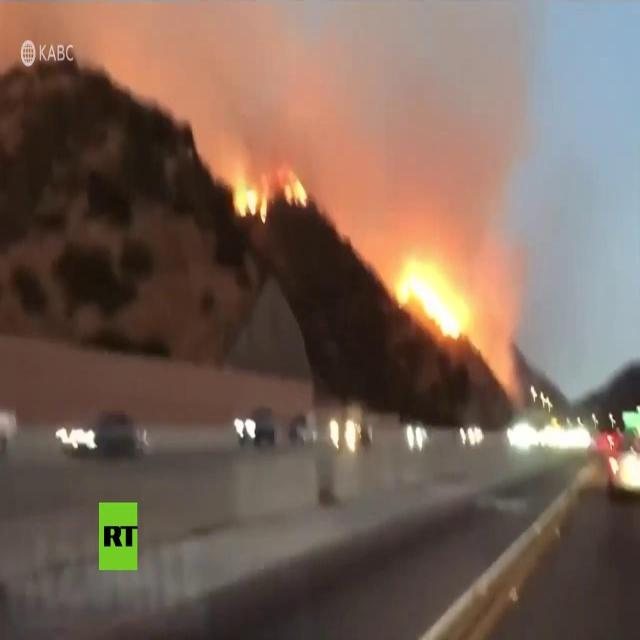Fire: (395, 262, 465, 341), (230, 184, 268, 224), (280, 172, 309, 206)
